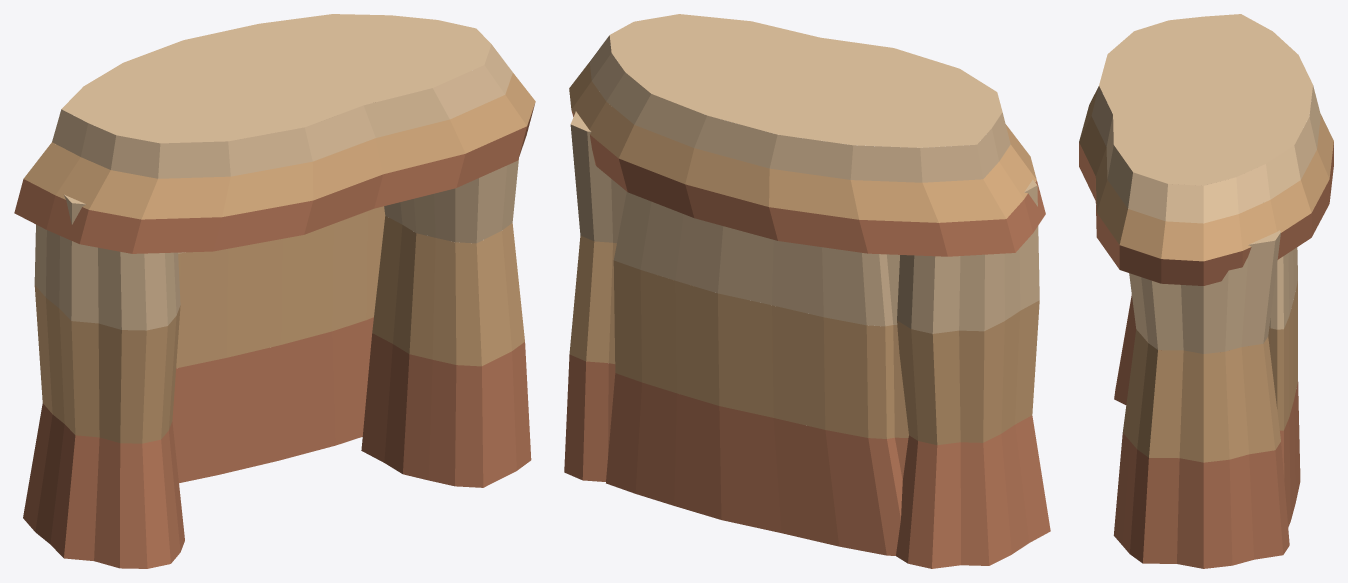
Rendered from desert-canyons-and-oases-undercut-alcove-f9c79ba9__20902.glb.
3 views of the same model, side by side, from view 1: azimuth 30°, elevation 25°; view 2: azimuth 150°, elevation 25°; view 3: azimuth 270°, elevation 25° (orthographic). The views are drawn at different scales.
Parts seen in each view (by area): view 1: undercut-alcove; view 2: undercut-alcove; view 3: undercut-alcove.
Boxes of the visible parts, bbox=[...] form: undercut-alcove: bbox=[14, 14, 535, 568]; undercut-alcove: bbox=[564, 14, 1050, 568]; undercut-alcove: bbox=[1079, 14, 1333, 568].
Size of the model in its own units: 5.71 by 4.7 by 2.95.
